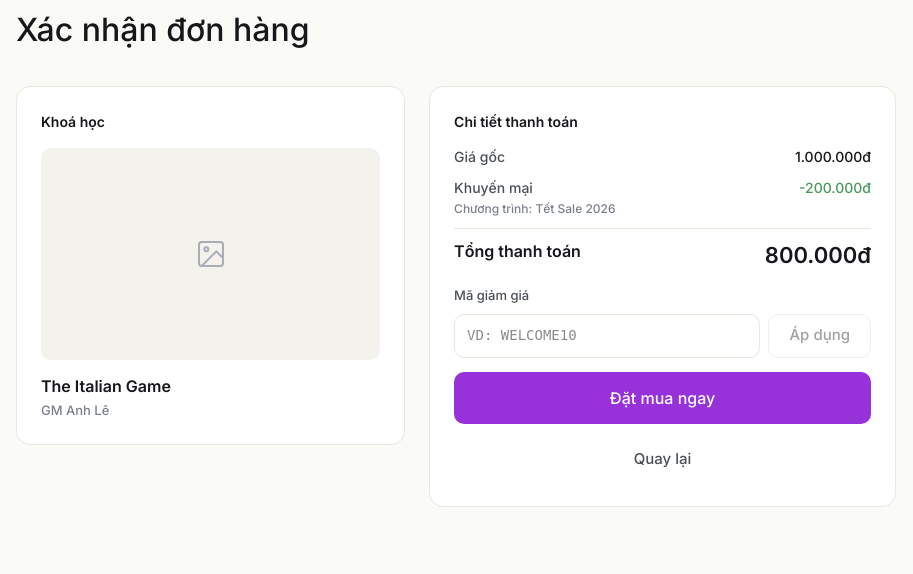
Scenario: ConfirmPurchasePage › renders the full stacking breakdown when campaign + voucher both apply
Type "WELCOME10" into the field with test id "voucher-input".
click(607, 336); type("WELCOME10")  # box [454,314,760,358]
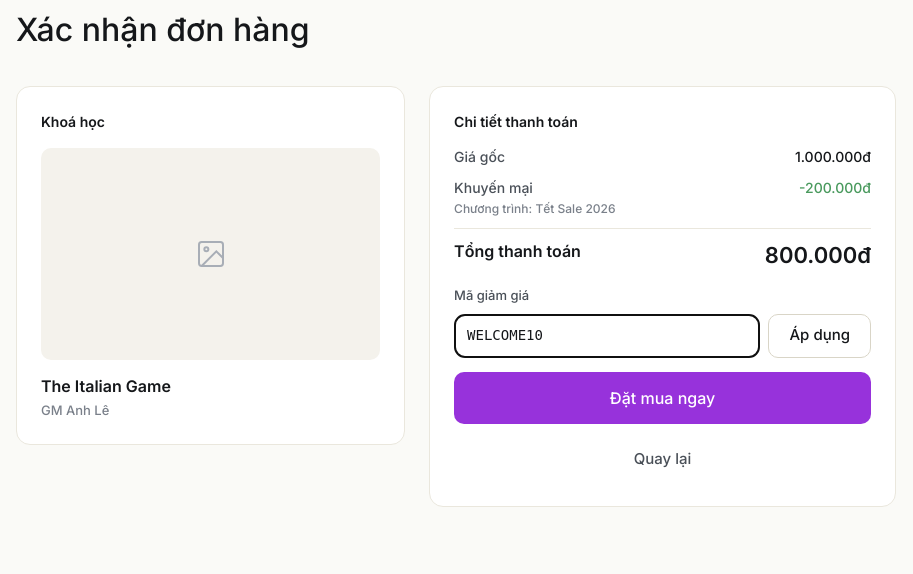
Click the button with test id "voucher-apply-btn".
click(820, 336)  # box [768,314,871,358]
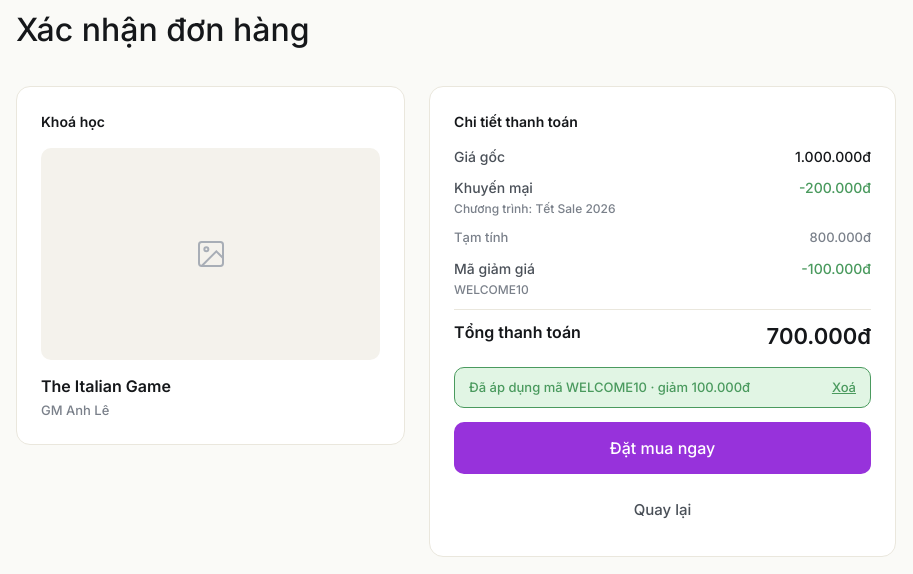
Now the text "-100.000đ" is shown, box [801,258,871,278]
Now the text with test id "confirm-voucher-discount" shows "100.000", box [808,260,871,276]
Now the text with test id "confirm-total-price" shows "700.000", box [767,322,871,348]
